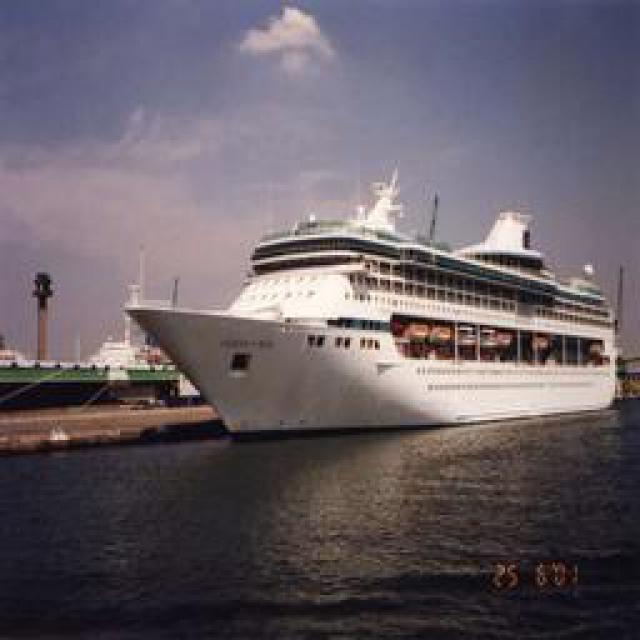Ship: (134, 205, 634, 438)
